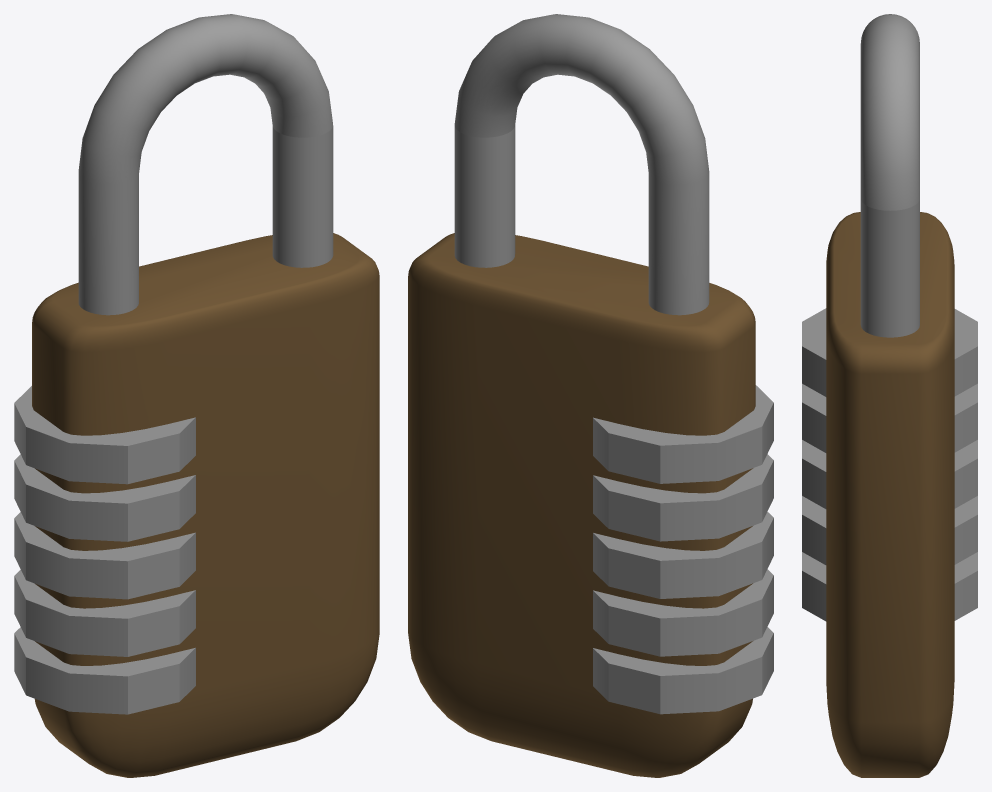
File: klodka-pin.fbx
The picture shows the model from 3 angles, left to right: view 1: azimuth 30°, elevation 25°; view 2: azimuth 150°, elevation 25°; view 3: azimuth 270°, elevation 25°; orthographic projection. The views are drawn at different scales.
Visible parts, largest first — view 1: Cube, Cylinder.001; view 2: Cube, Cylinder.001; view 3: Cube, Cylinder.001.
Boxes of the visible parts, box(x1,y1,x2,y2) form: Cube: box(14, 233, 379, 777); Cylinder.001: box(78, 14, 333, 315); Cube: box(408, 233, 773, 777); Cylinder.001: box(454, 14, 709, 315); Cube: box(802, 212, 977, 777); Cylinder.001: box(860, 14, 919, 337).
Bounding box in the file's own units: 215 × 442 × 99.43.
